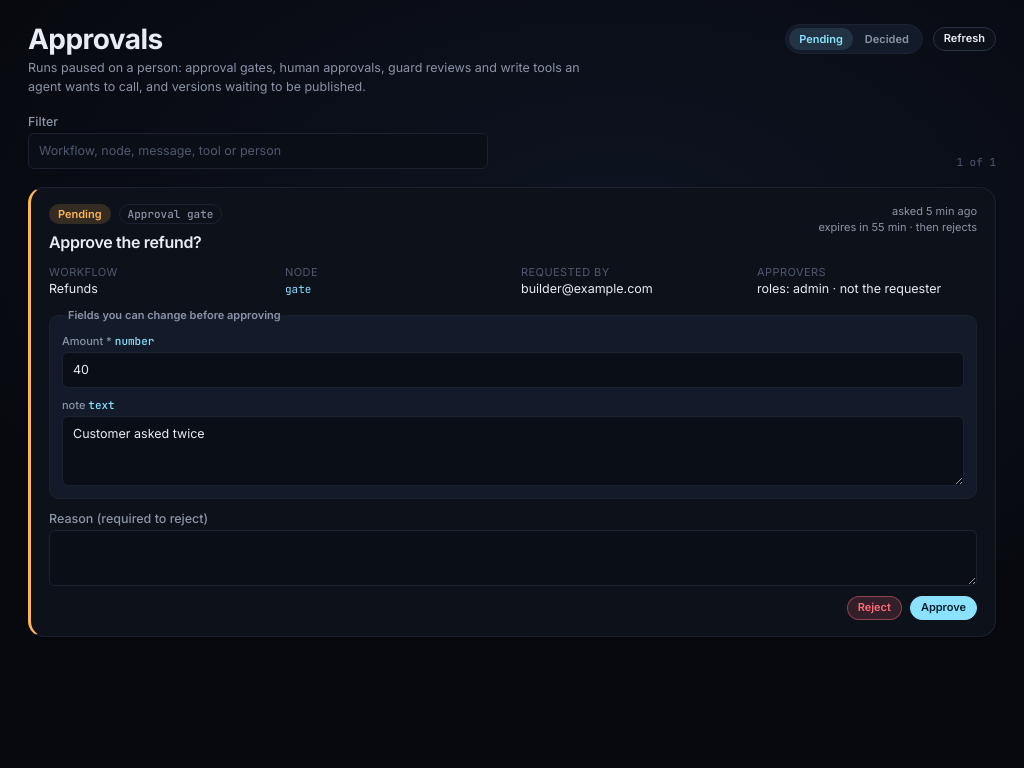
Scenario: ApprovalsPage › approves with typed edits and a reason, and shows a queued outcome
Replace the text in the number field labelled "Amount * number" with "35": [513, 370] box [62,352,964,388]
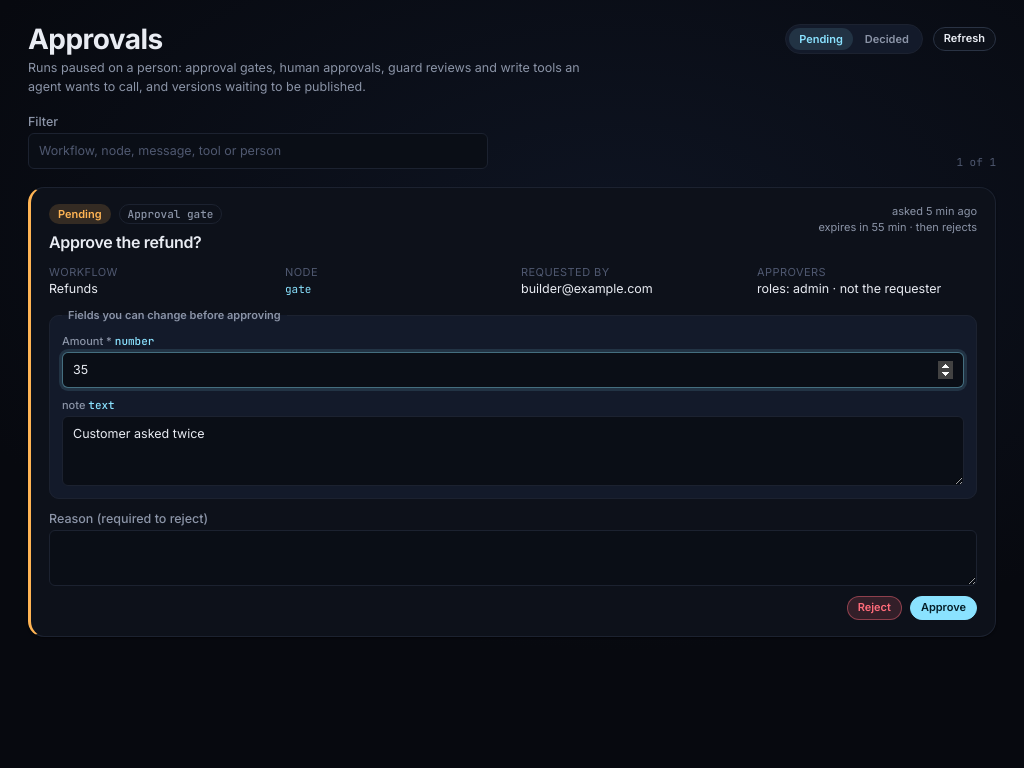
In the text box labelled "Reason (required to reject)": [513, 558] box [49,530,977,586], type "Partial refund"
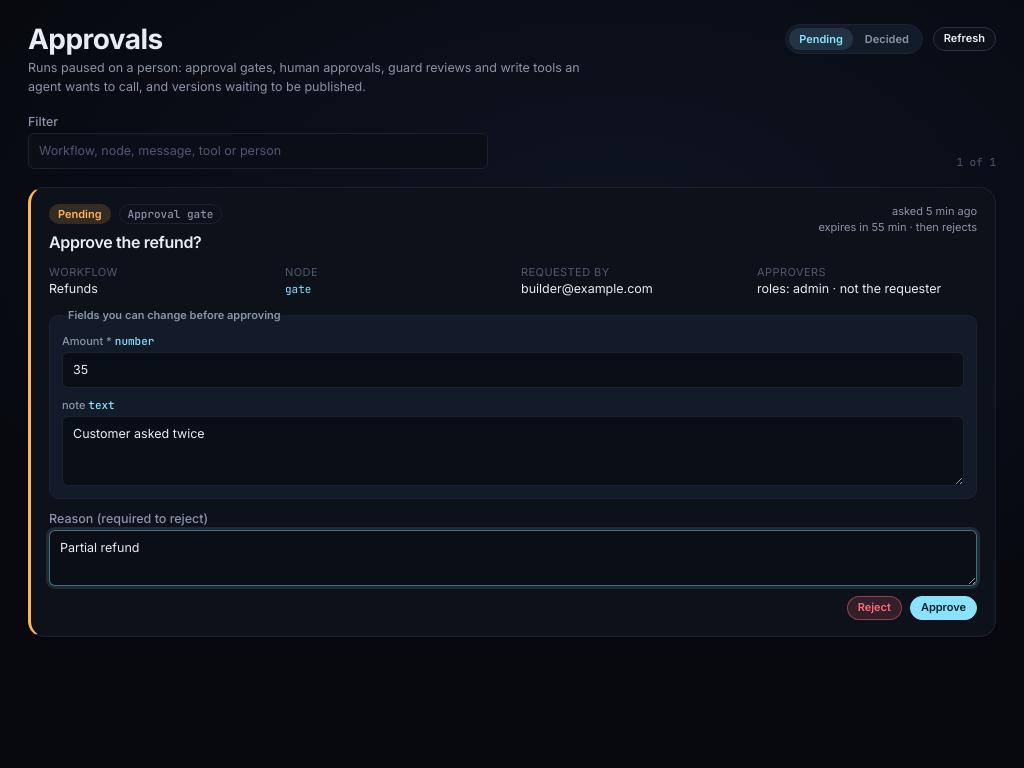
Click the button "Approve": [943, 608] box [910,596,977,620]
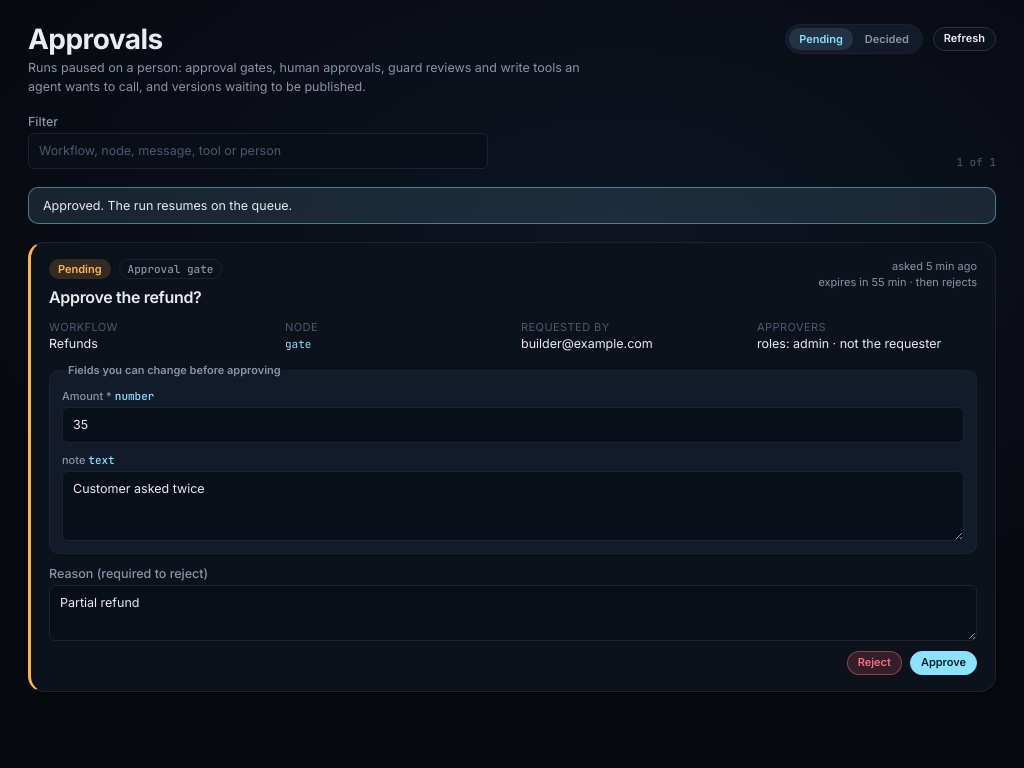
Check: the text "Approved. The run resumes on the queue." is shown, box [28,187,996,224]
